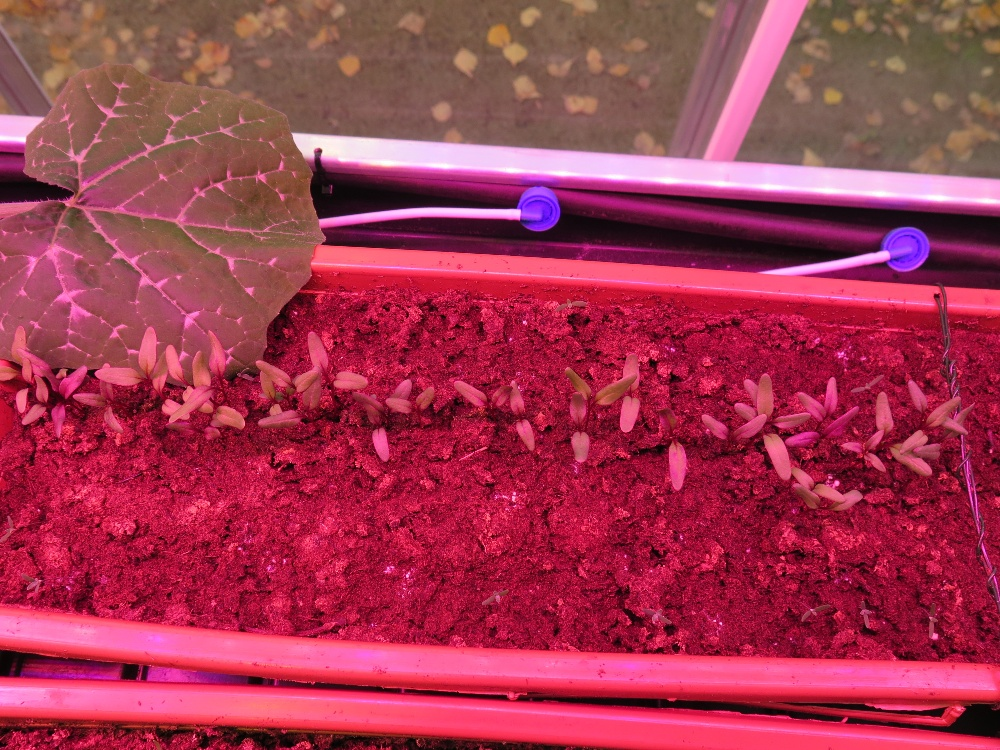crop: (155, 339, 249, 441), (737, 372, 810, 488), (346, 370, 424, 467), (90, 322, 173, 413), (295, 325, 371, 420), (246, 352, 318, 442), (785, 378, 860, 458), (904, 375, 976, 447), (785, 468, 877, 524), (73, 361, 137, 436), (24, 361, 85, 438), (562, 359, 640, 417), (648, 414, 704, 492), (882, 425, 946, 489), (499, 378, 543, 456), (1, 327, 41, 409), (612, 345, 648, 436), (698, 408, 773, 450), (859, 377, 896, 455), (451, 370, 513, 416), (559, 389, 595, 466), (391, 378, 440, 430), (841, 430, 896, 475)
weed: (921, 600, 949, 644), (477, 584, 518, 612), (637, 603, 677, 631), (798, 592, 830, 625), (852, 602, 884, 634), (1, 512, 26, 549), (552, 294, 587, 316), (13, 576, 52, 591)
